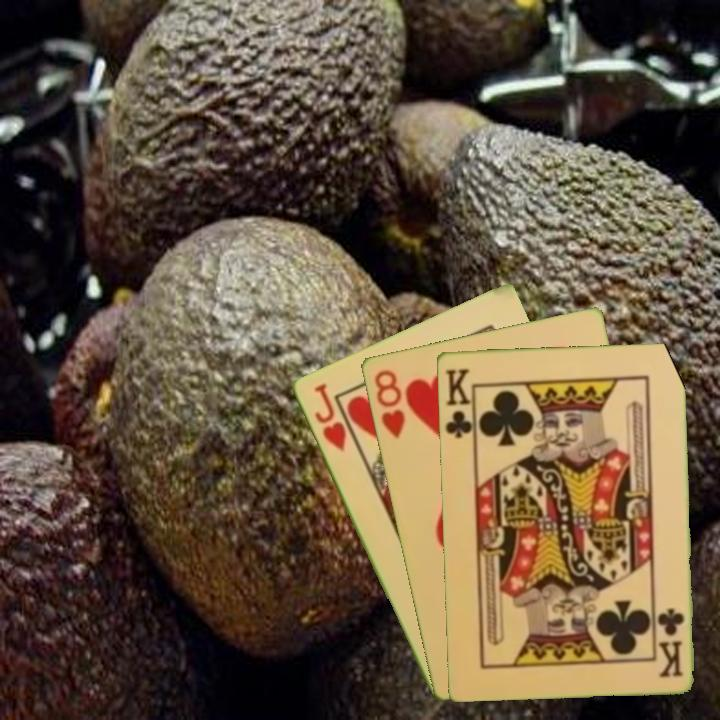8h: (370, 366, 408, 441)
Jh: (310, 379, 349, 455)
Kc: (441, 364, 477, 443), (654, 604, 687, 680)
